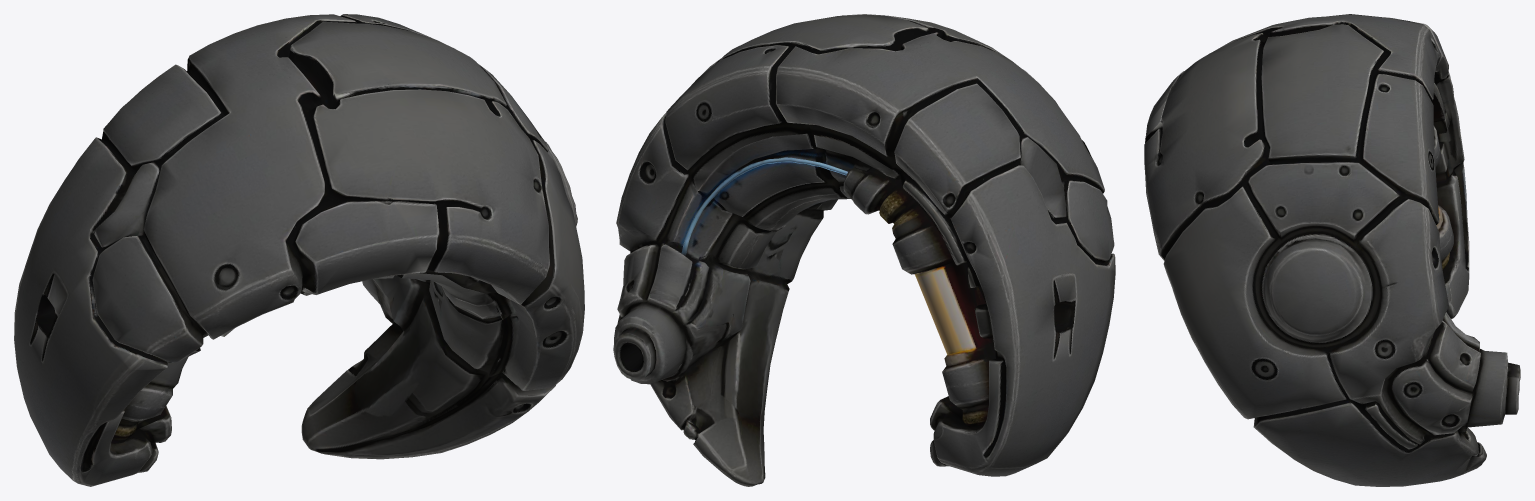
The model's file is needle-hook.glb.
3 renders of one model, left to right at view 1: azimuth 30°, elevation 25°; view 2: azimuth 150°, elevation 25°; view 3: azimuth 270°, elevation 25°, orthographic. The views are drawn at different scales.
Visible parts, largest first — view 1: tripo_node_fc13425c-fd08-4d3f-a0dc-8f694ef233f6; view 2: tripo_node_fc13425c-fd08-4d3f-a0dc-8f694ef233f6; view 3: tripo_node_fc13425c-fd08-4d3f-a0dc-8f694ef233f6.
Part boxes in pixels (box(x1,y1,x2,y2)): tripo_node_fc13425c-fd08-4d3f-a0dc-8f694ef233f6: box(14, 14, 584, 486); tripo_node_fc13425c-fd08-4d3f-a0dc-8f694ef233f6: box(613, 14, 1115, 486); tripo_node_fc13425c-fd08-4d3f-a0dc-8f694ef233f6: box(1144, 14, 1520, 486).
Bounding box in the file's own units: 0.998 × 0.9238 × 0.7598.
1 material, 1 textured.
